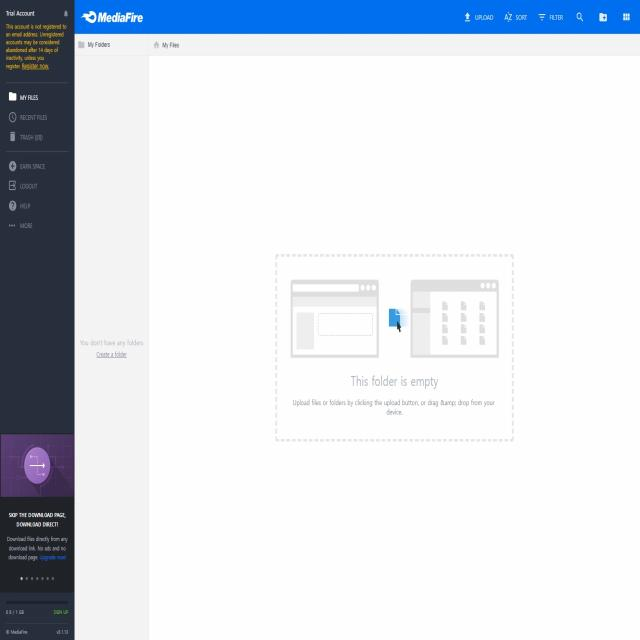menu-bar: (460, 2, 636, 28)
side-panel: (1, 81, 72, 236)
